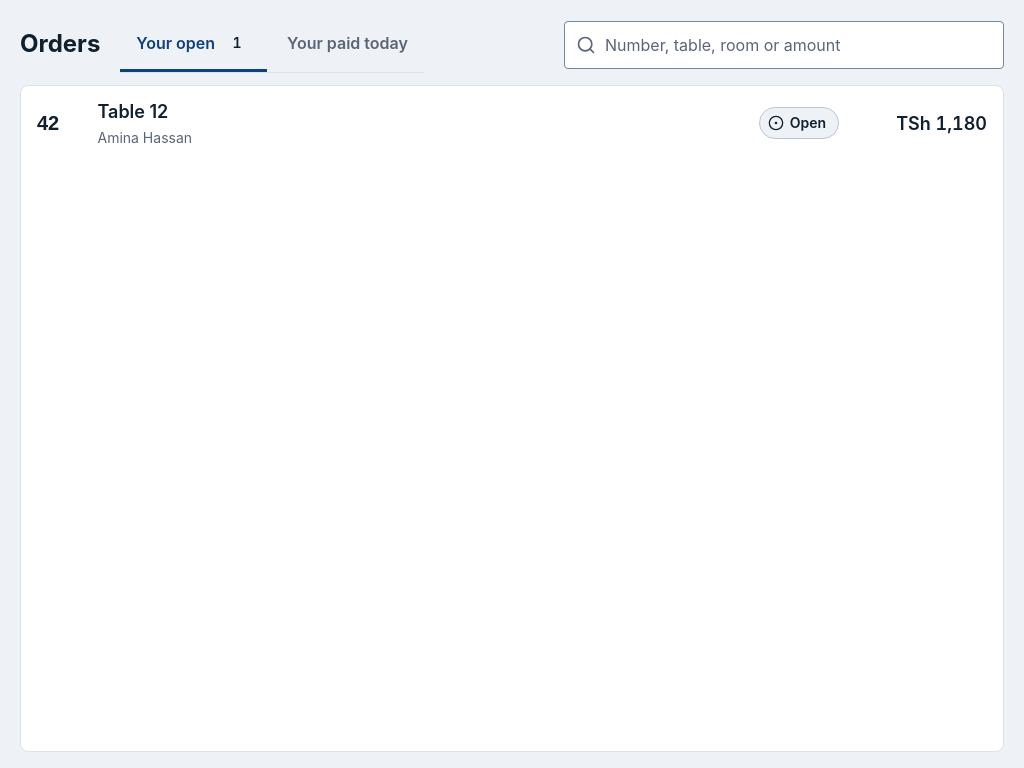
Orders › isn't offered to a person who can't send an order
Click the button with test id "order-row-order-1" at point(133, 112), box [21,86,1003,160]
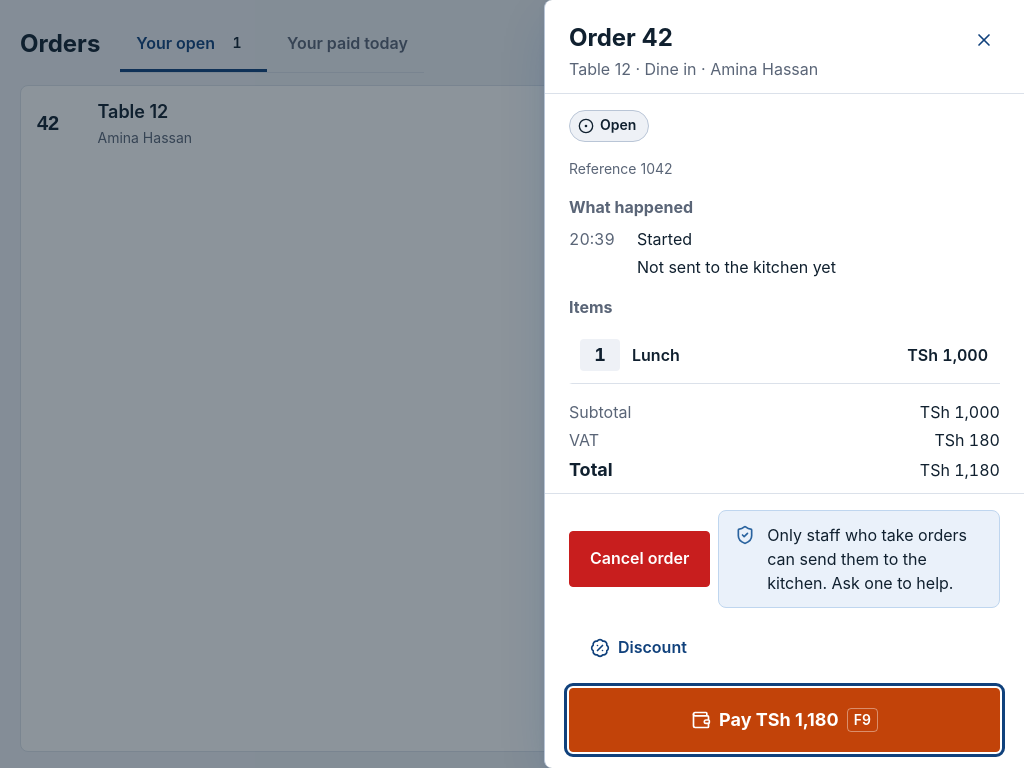
Result: the button with test id "detail-pay" is shown at [569,688,1000,752]
